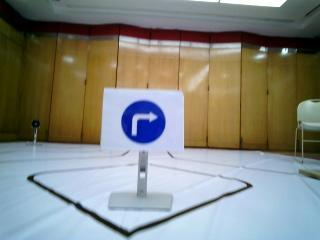right: (105, 92, 184, 151)
